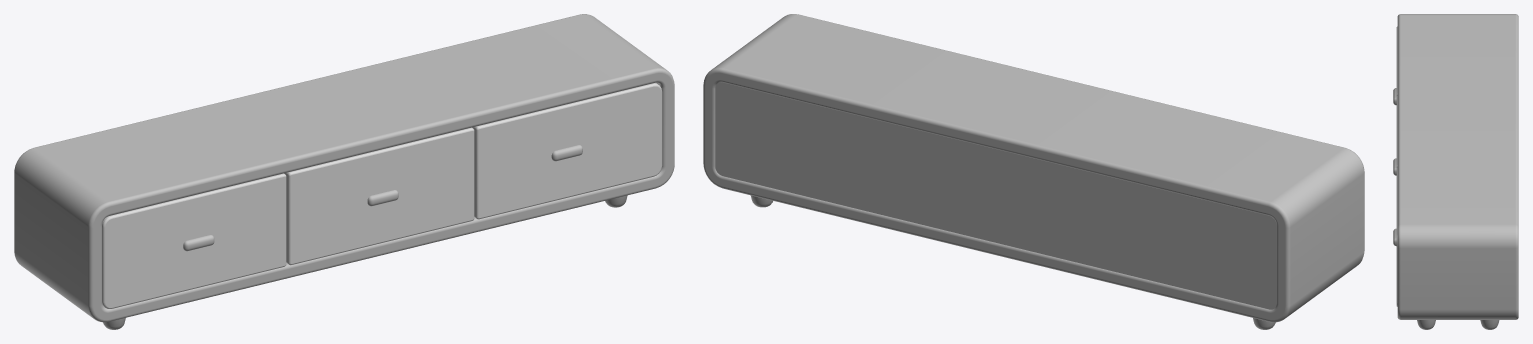
File: TelevisionDesk.fbx
3 renders of one model, left to right at view 1: azimuth 30°, elevation 25°; view 2: azimuth 150°, elevation 25°; view 3: azimuth 270°, elevation 25°, orthographic. The views are drawn at different scales.
Parts seen in each view (by area): view 1: Cylinder.002; view 2: Cylinder.002; view 3: Cylinder.002.
Part boxes in pixels (x1=…): Cylinder.002: x1=14, y1=14, x2=674, y2=329; Cylinder.002: x1=703, y1=14, x2=1364, y2=329; Cylinder.002: x1=1393, y1=14, x2=1518, y2=329.
Bounding box in the file's own units: 1.75 × 0.408 × 0.4144.
Materials: 1 (1 with a texture image).
